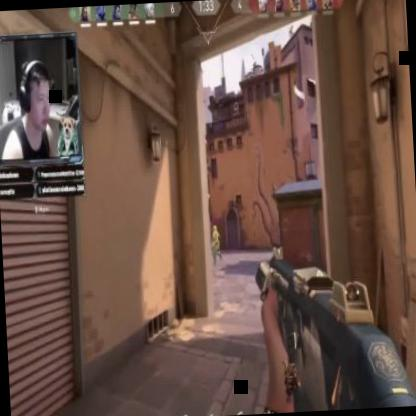enemy: (210, 224, 222, 266)
enemy_head: (212, 224, 217, 232)
